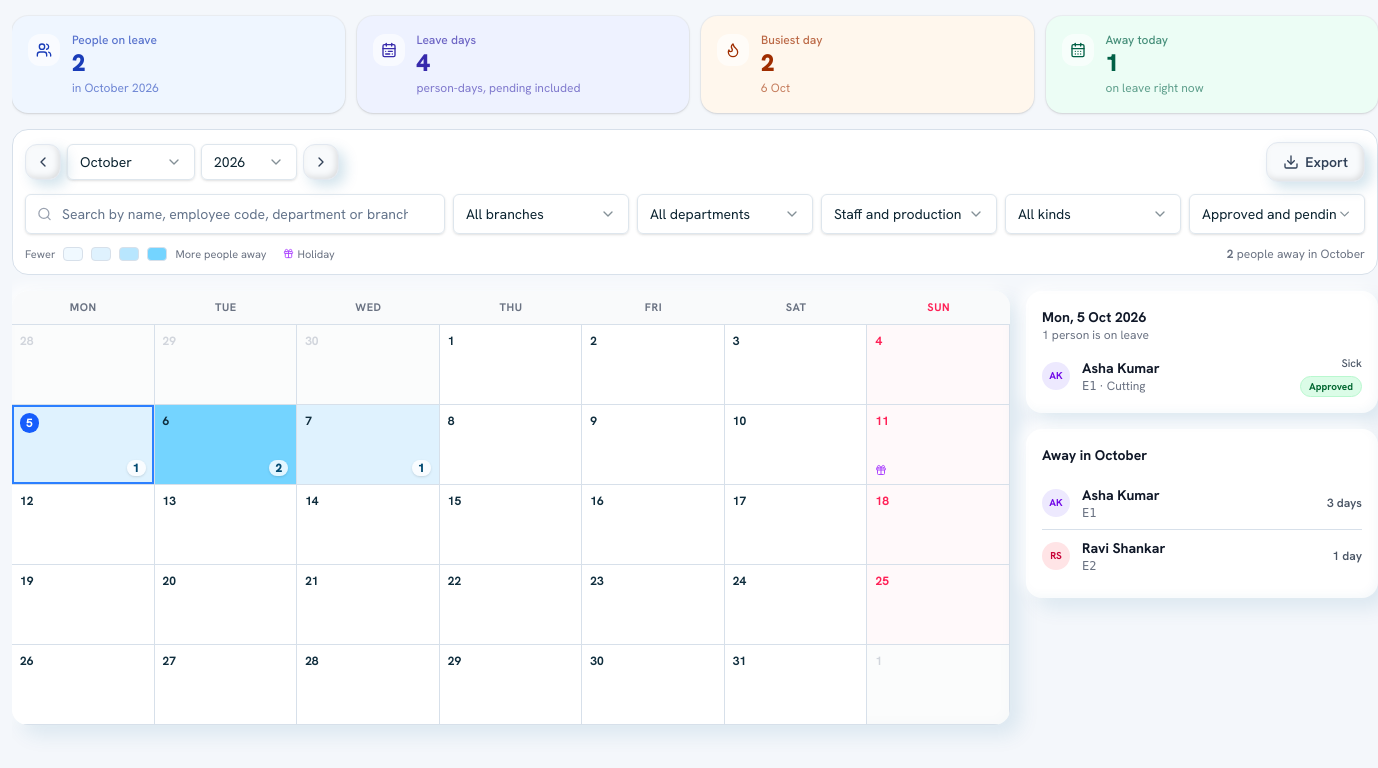
Test: the leave calendar › a day opens its list of people with their status
Click the button "6 2" at (226, 444), box [155, 404, 297, 484]
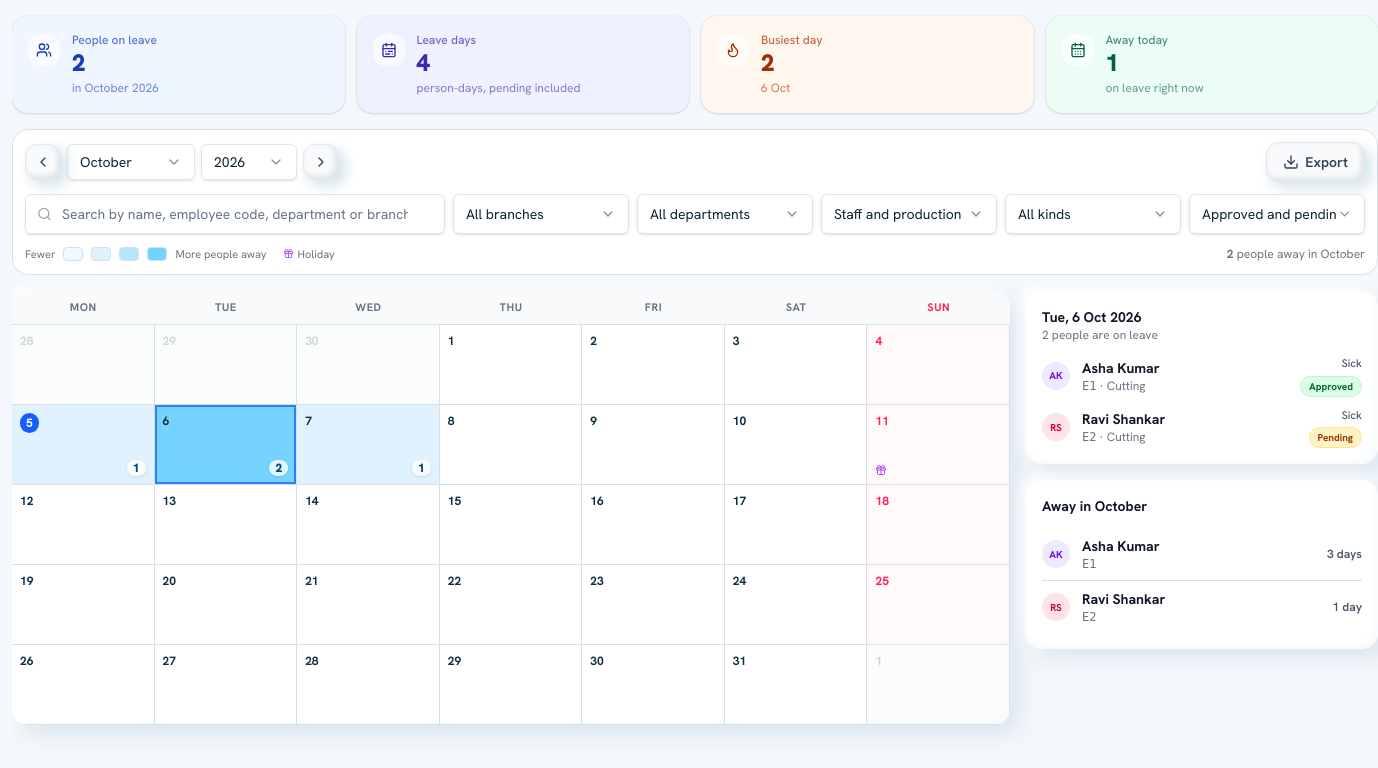
Check: the number of elements with test id "cal-day-person" is 2, box [1042, 355, 1362, 396]; [1042, 406, 1362, 448]
